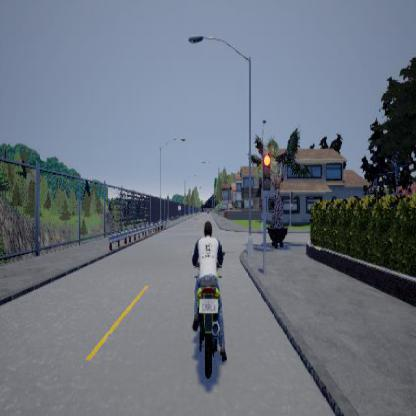motobike: (189, 218, 228, 381)
traffic_light_red: (262, 147, 270, 197)
